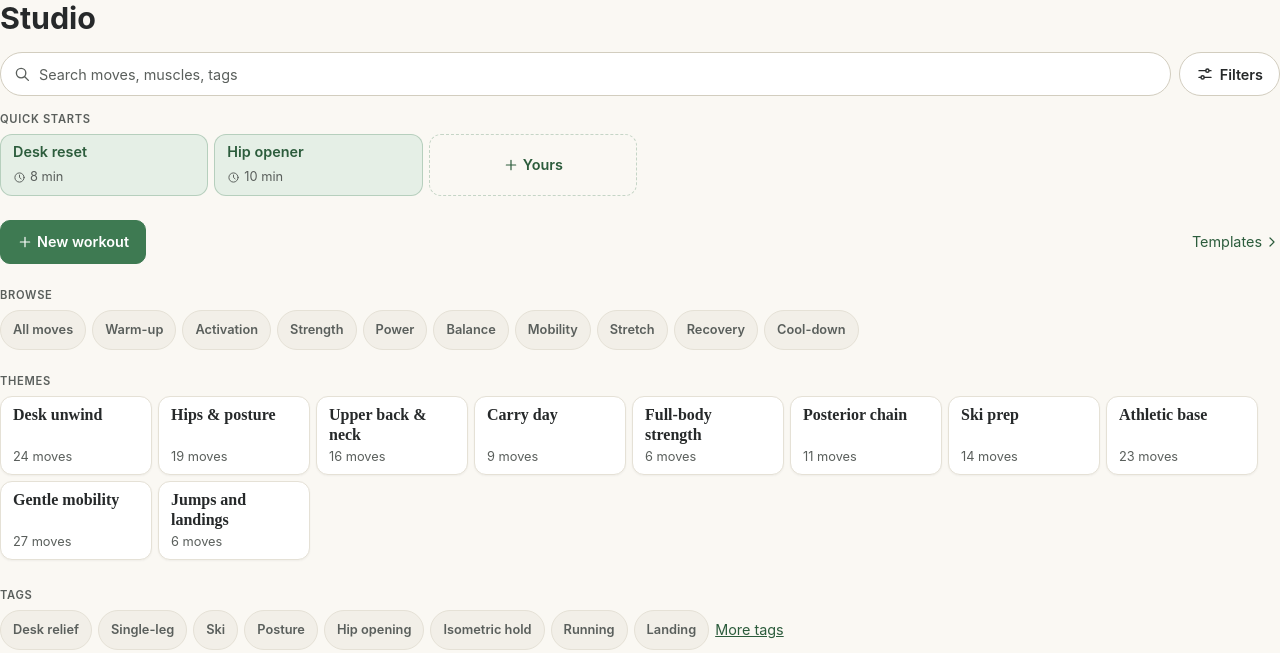
Test case: typing filters, live › …the same with the place's gear known, whose default chip the closing list still drew for a frame
Click the button "Strength": (317, 330) [277,310,356,350]
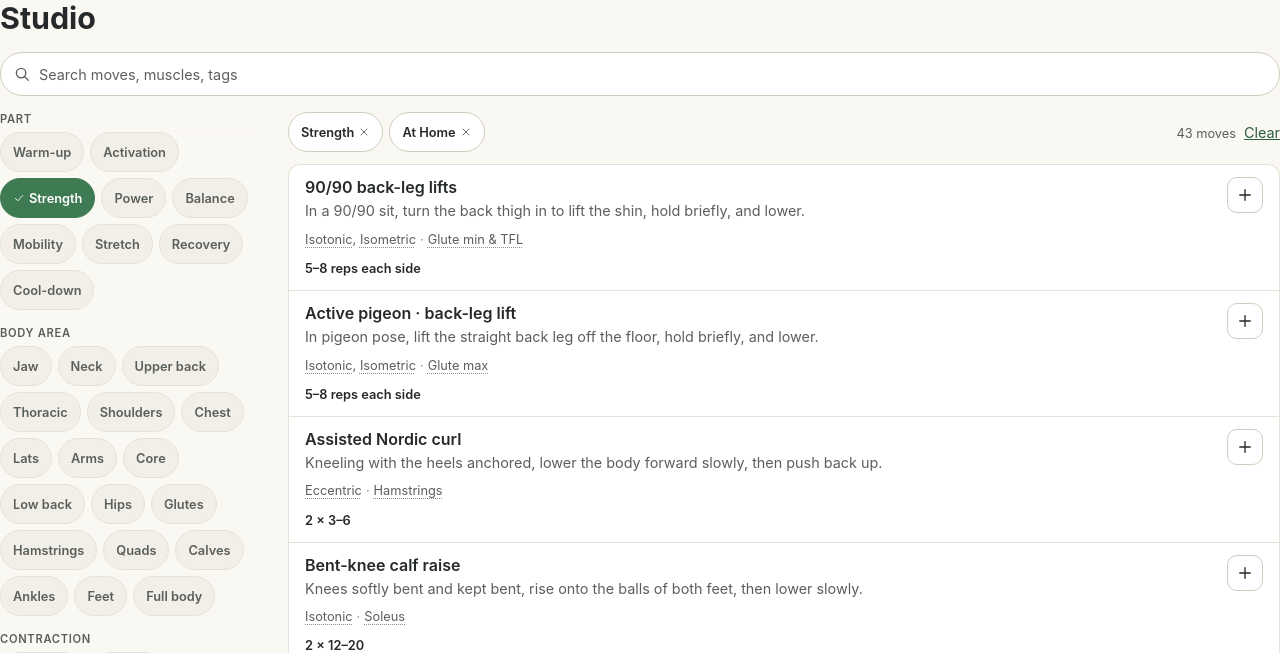
Check: the button named "Remove At Home" is shown, box [389,112,485,152]
Click the button "Strength" in the row of "43 moves": (336, 132) [288,112,383,152]
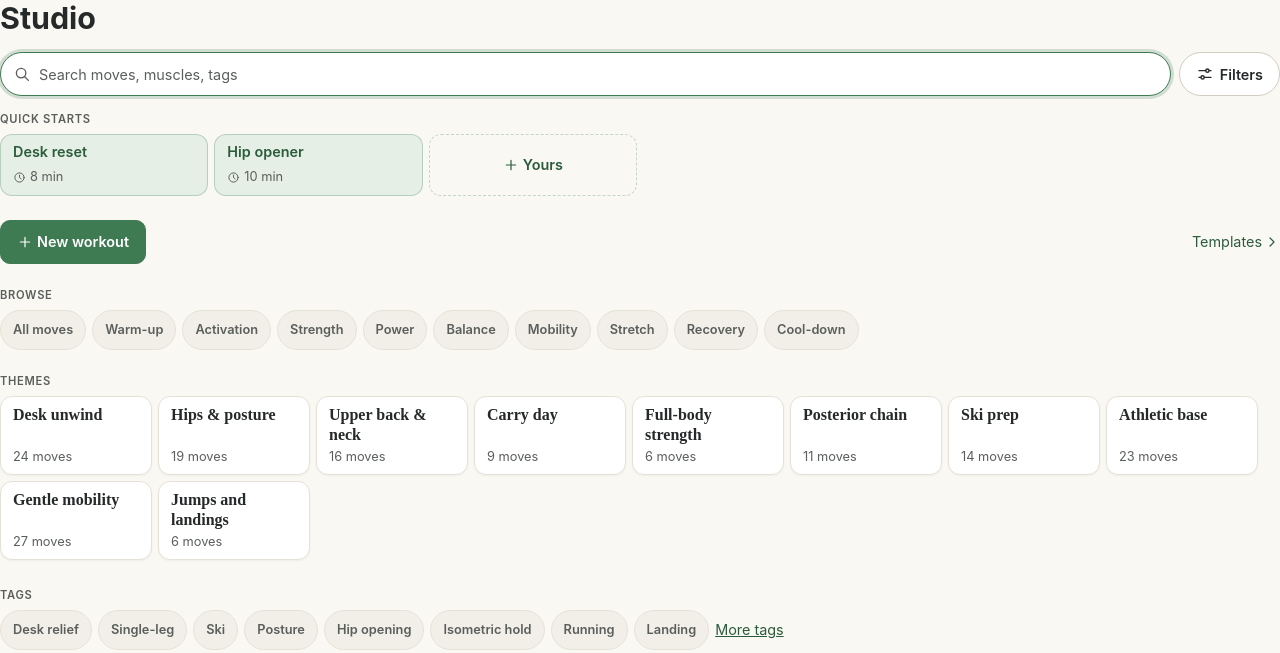
Check: the text "Quick starts" is shown, box [0,112,91,126]
